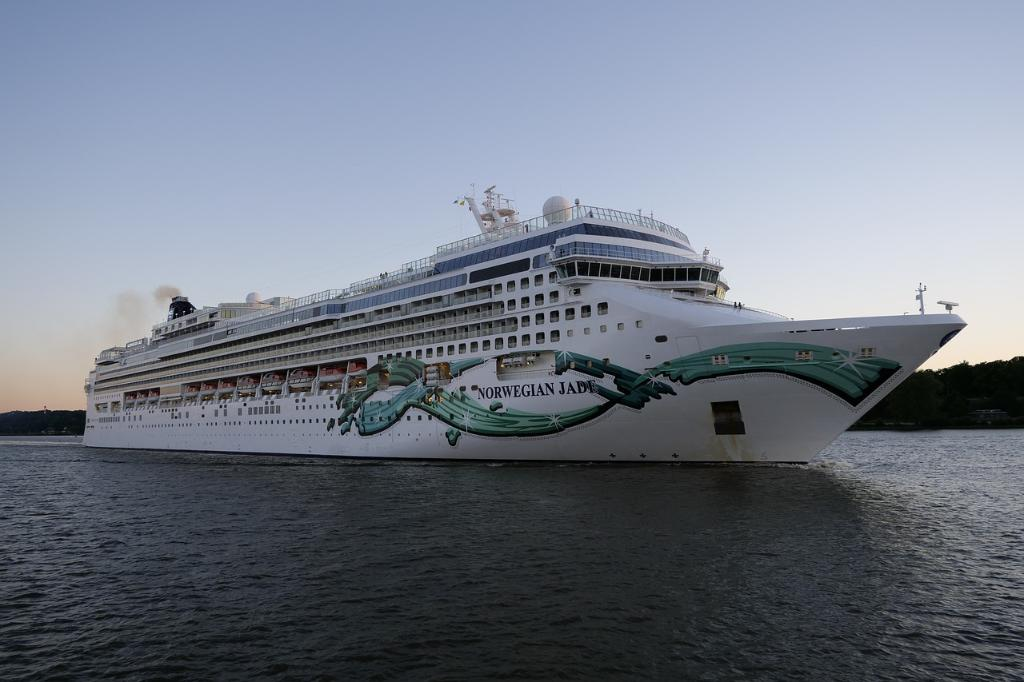PassengerShip: (72, 188, 980, 480)
